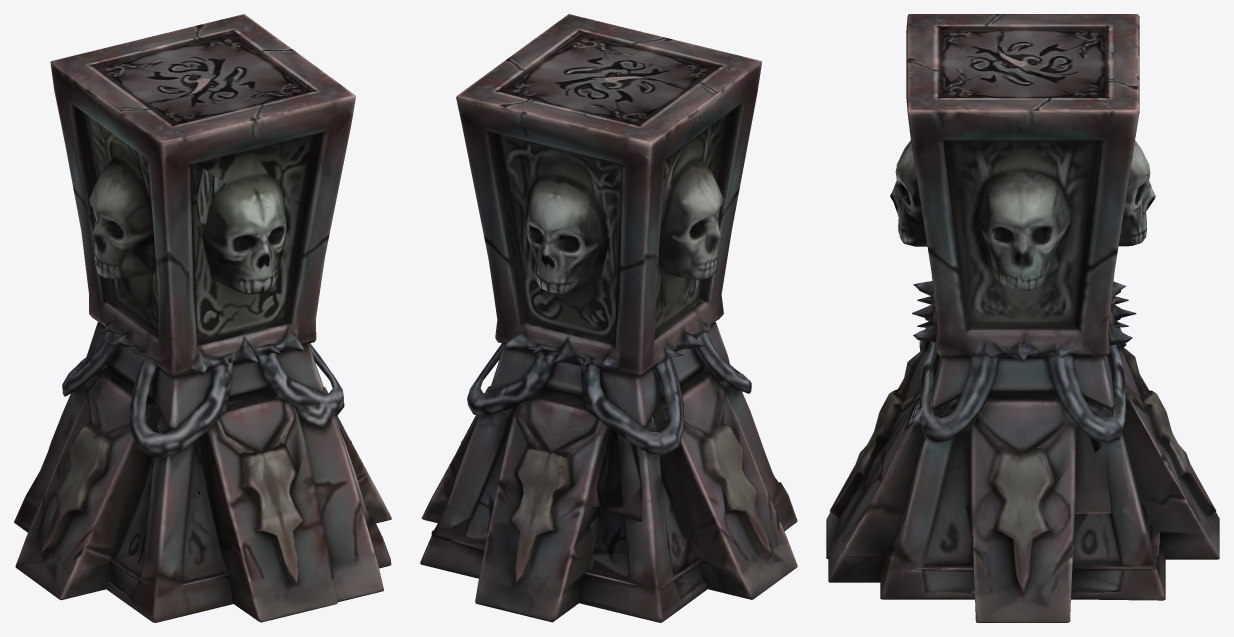
Rendered from Warden_Cube-marker-web.glb.
3 renders of one model, left to right at view 1: azimuth 30°, elevation 25°; view 2: azimuth 150°, elevation 25°; view 3: azimuth 270°, elevation 25°, orthographic. The views are drawn at different scales.
Bounding box in the file's own units: 1.49 × 2 × 1.49.
Materials: 1 (1 with a texture image).
